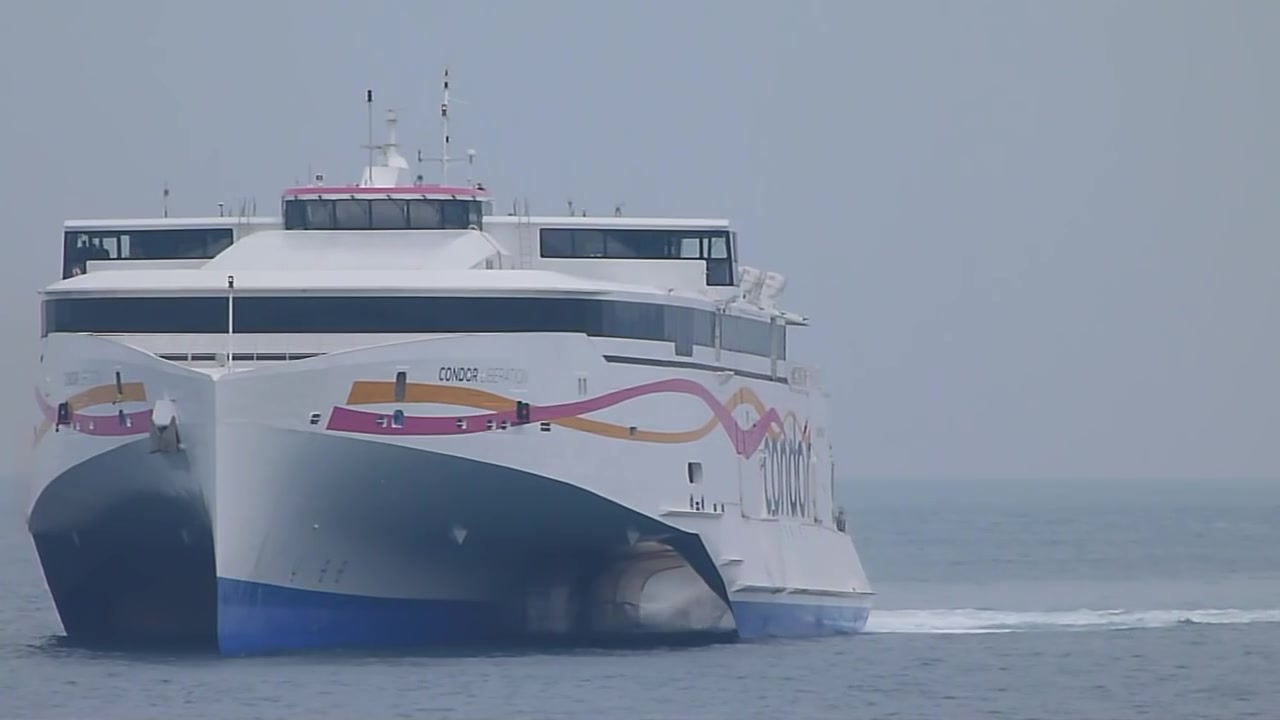CommonShip: (18, 184, 887, 659)
